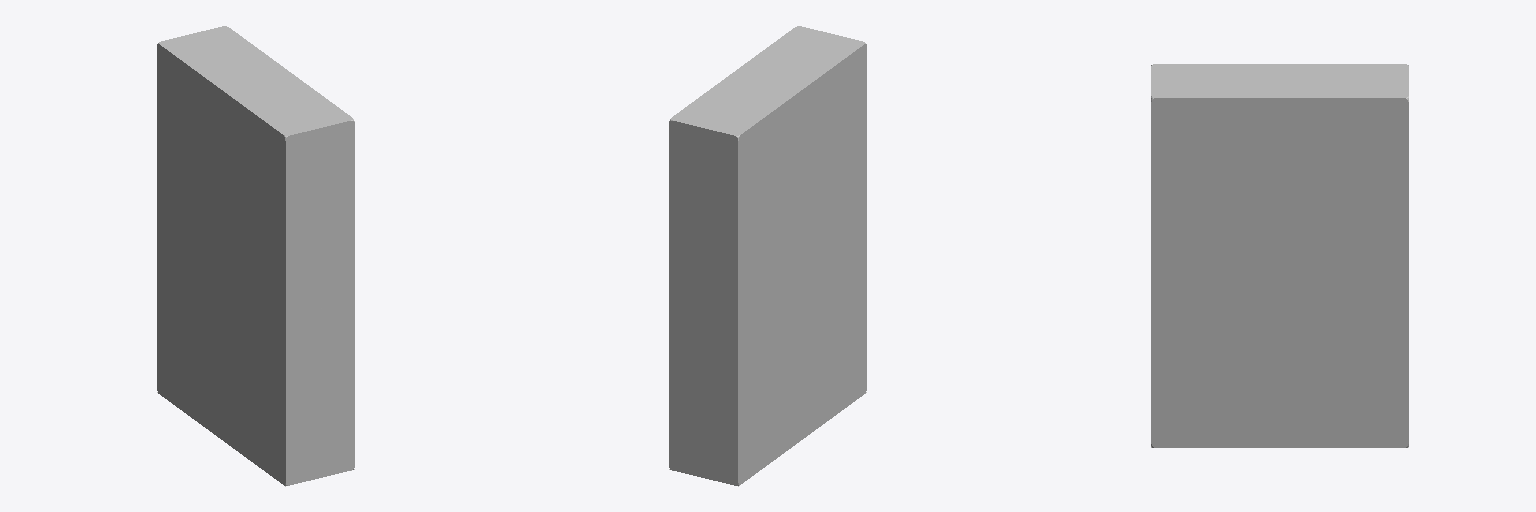
Rendered from cereal_box.obj.
3 views of the same model, side by side, from view 1: azimuth 30°, elevation 25°; view 2: azimuth 150°, elevation 25°; view 3: azimuth 270°, elevation 25° (orthographic).
Parts seen in each view (by area): view 1: Cube; view 2: Cube; view 3: Cube.
Part boxes in pixels (x1,y1,x2,y2): Cube: (157, 26, 354, 486); Cube: (669, 26, 866, 486); Cube: (1151, 64, 1408, 447).
Bounding box in the file's own units: 2.5 × 12 × 8.